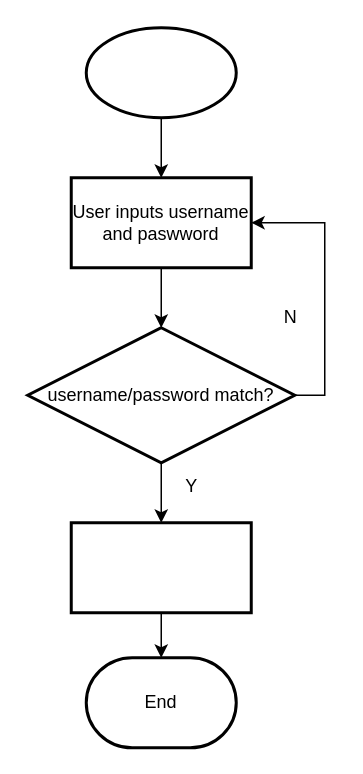
Image size: 363x774. Some labels were removed from this diagram. The shapes that lost their labels are listed below. From the top down, each one's centre as x and y in pixels, then its label:
At (160,72): "Start".
At (160,567): "Login successfully".
